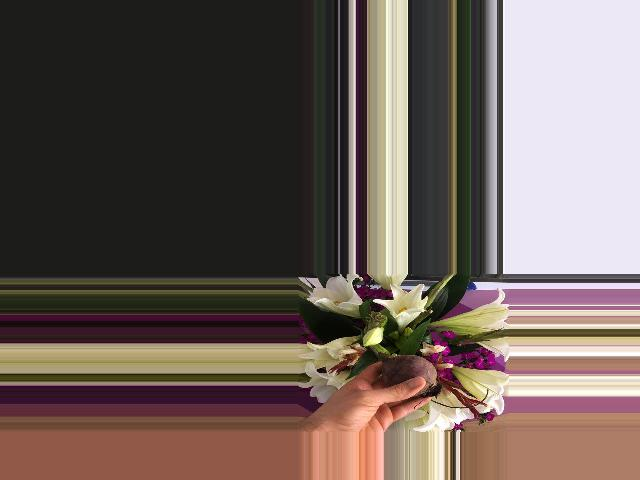beet: (367, 345, 442, 398)
